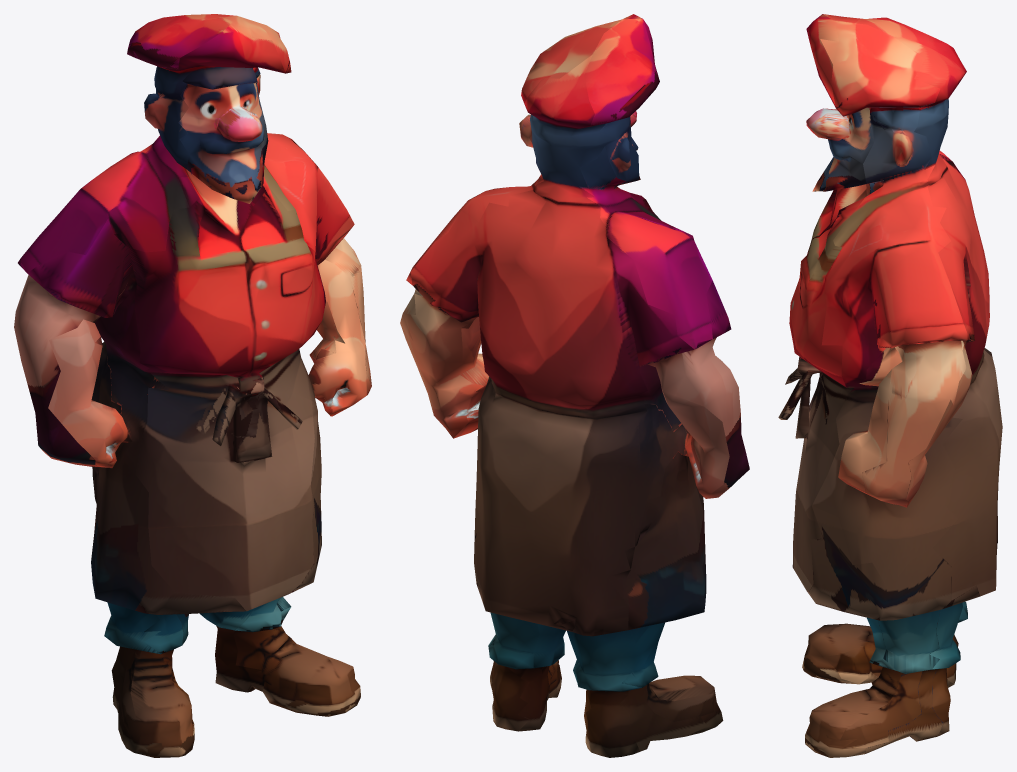
The model's file is npc_red.glb.
The picture shows the model from 3 angles, left to right: view 1: azimuth 30°, elevation 25°; view 2: azimuth 150°, elevation 25°; view 3: azimuth 270°, elevation 25°; orthographic projection. The views are drawn at different scales.
Visible parts, largest first — view 1: world; view 2: world; view 3: world.
Part boxes in pixels (box(x1,y1,x2,y2)): world: box(14, 14, 371, 757); world: box(400, 14, 749, 757); world: box(778, 14, 1002, 757).
Bounding box in the file's own units: 0.4856 × 1 × 0.2991.
1 material, 1 textured.
